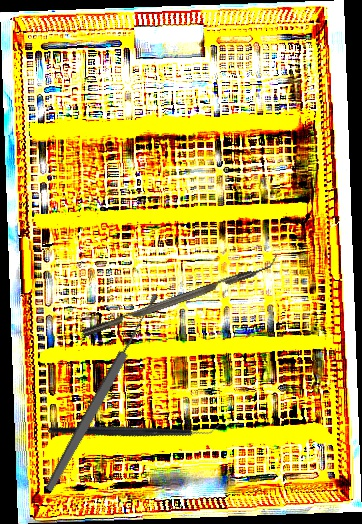Chopper: (47, 365, 222, 491), (78, 251, 282, 338)
Surgical Spoon: (42, 291, 163, 494)
